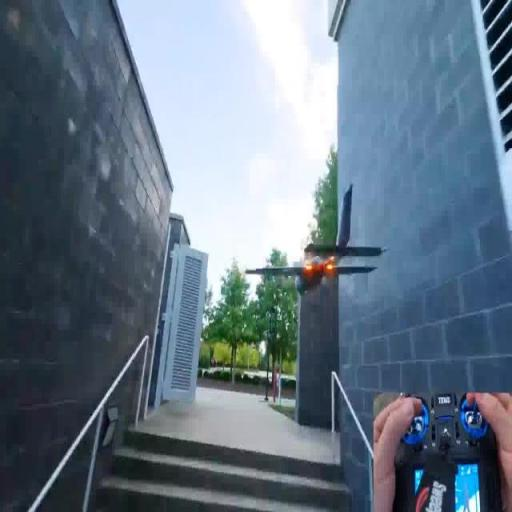uav: (245, 174, 386, 306)
